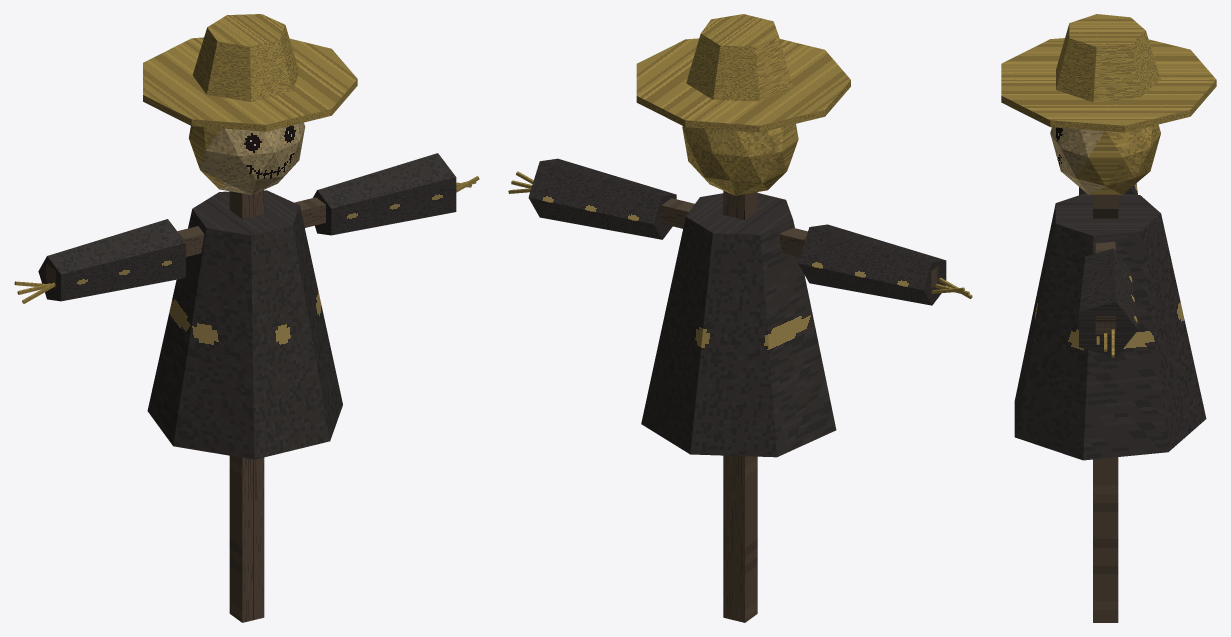
File: scarecrow.glb
3 views of the same model, side by side, from view 1: azimuth 30°, elevation 25°; view 2: azimuth 150°, elevation 25°; view 3: azimuth 270°, elevation 25° (orthographic).
Parts seen in each view (by area): view 1: scarecrow; view 2: scarecrow; view 3: scarecrow.
Part boxes in pixels (box(x1,y1,x2,y2)): scarecrow: box(14, 14, 479, 622); scarecrow: box(508, 14, 972, 622); scarecrow: box(1001, 14, 1216, 622).
Bounding box in the file's own units: 2.1 × 2.57 × 0.8535.
Materials: 1 (1 with a texture image).
